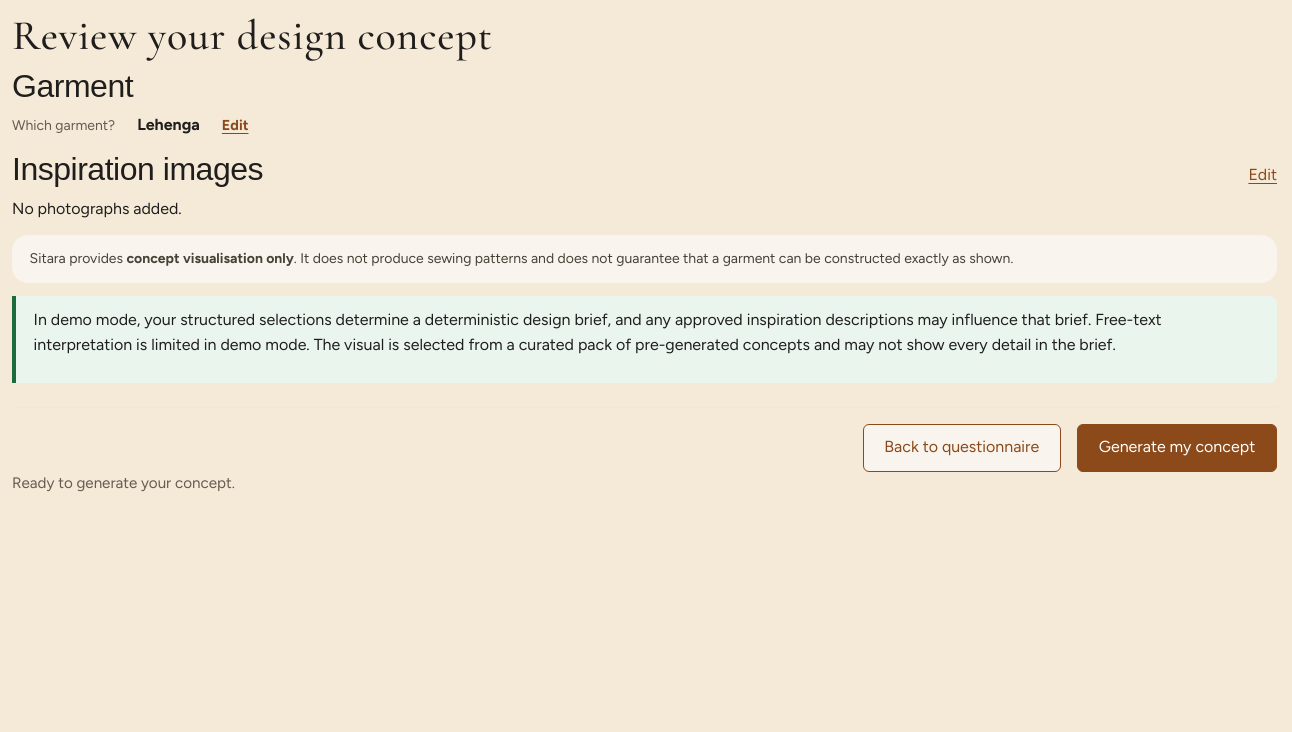
Test case: ReviewSummary › Generate my concept › offers no retry control for generation_limit_reached, which an immediate retry cannot clear
Click the button "Generate my concept" at (1177, 448), box [1077,424,1277,472]
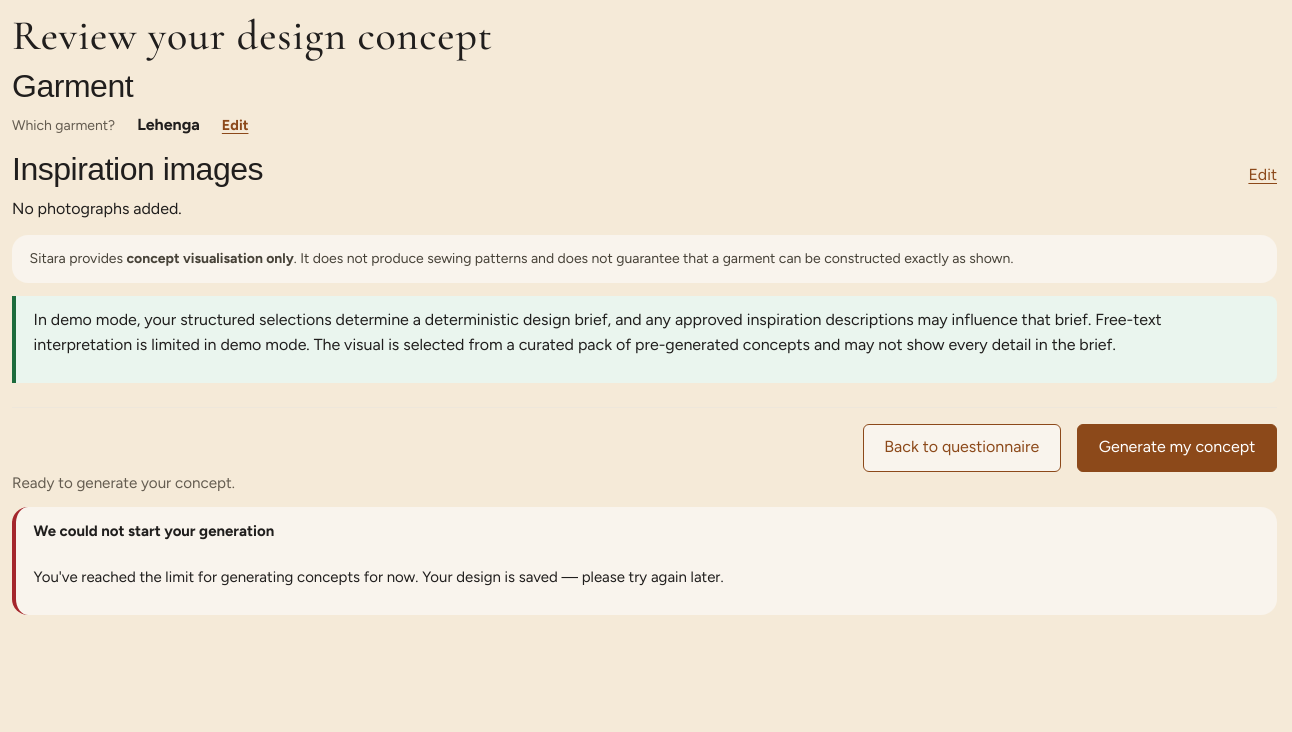
Expected: the text "reached the limit" is shown, [34,568,724,586]
